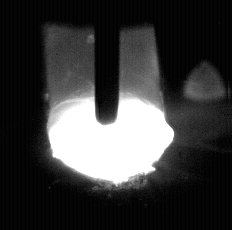arame: (96, 0, 120, 125)
poca: (48, 0, 174, 230)
